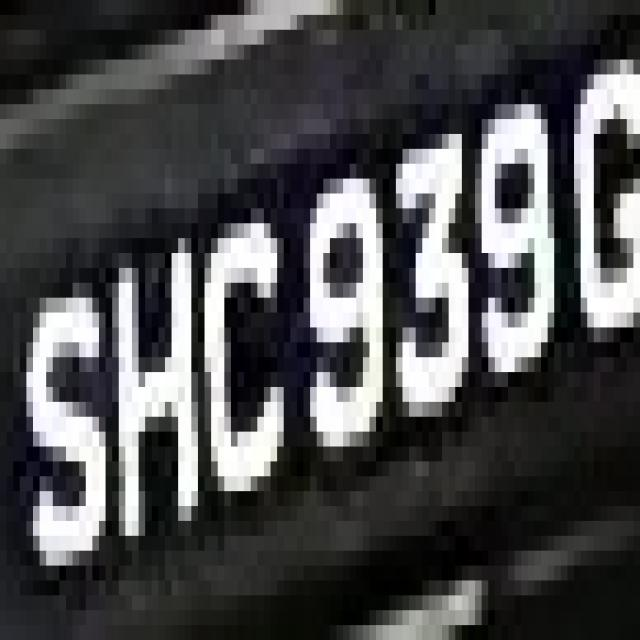3: (376, 104, 488, 491)
9: (284, 104, 389, 476), (475, 89, 554, 417)
C: (204, 178, 297, 550)
G: (6, 2, 7, 10)
H: (106, 194, 211, 610)
S: (13, 253, 106, 595)
